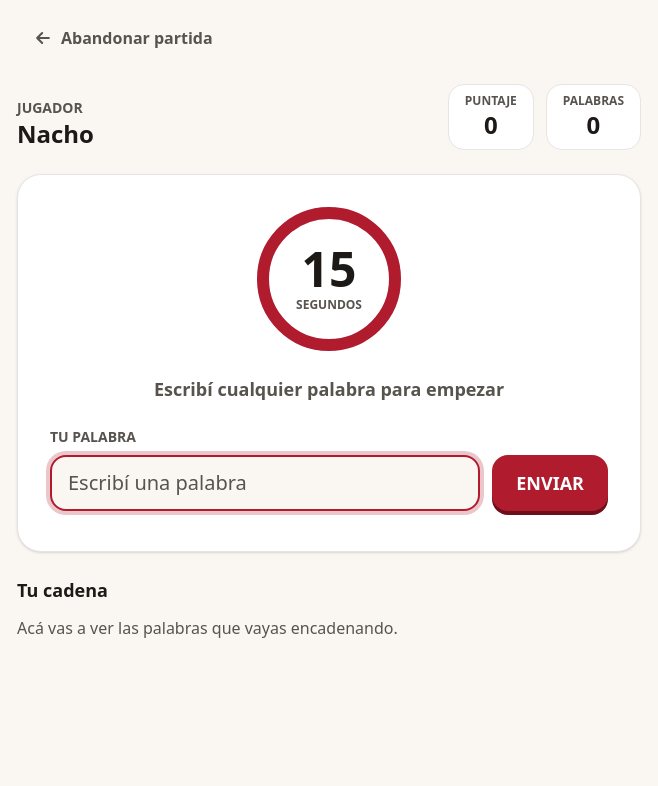
Test: GameScreen abandon button › closes the dialog if the time runs out while it is open
Step 1. Type "casa" into the field labelled "Tu palabra" → (265, 483), box [50,455,480,511]
Then press Enter
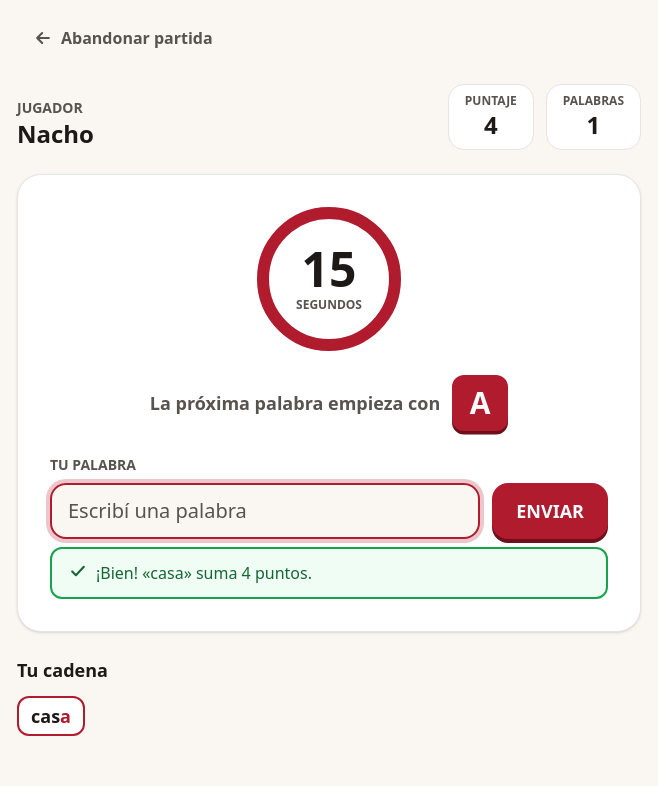
Now the text "¡Bien! «casa»" is shown, box [96,561,312,585]
Step 2. Click the button "Abandonar partida" → (123, 38), box [17,16,229,60]
Wait 15000 ms
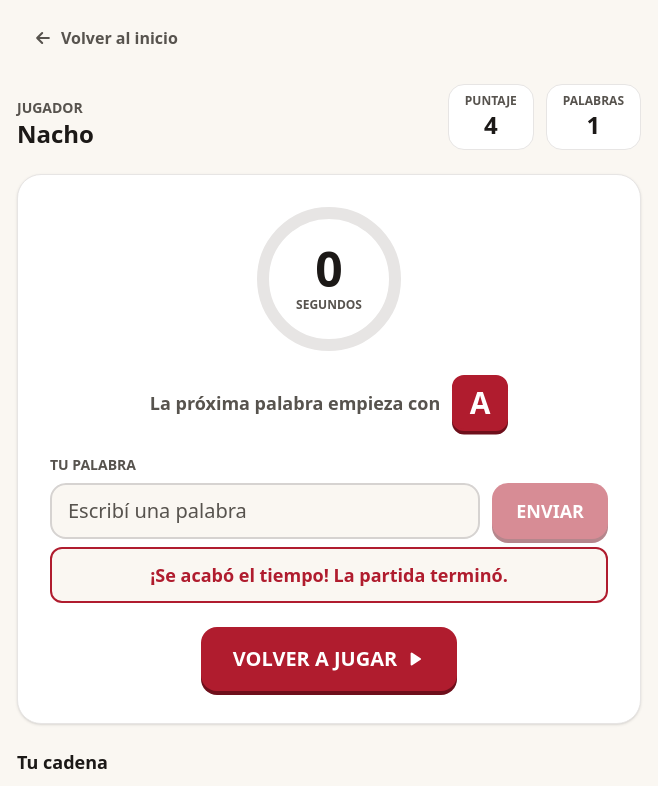
Now the text "¡Se acabó el tiempo! La partida terminó." is shown, box [50,547,608,603]
